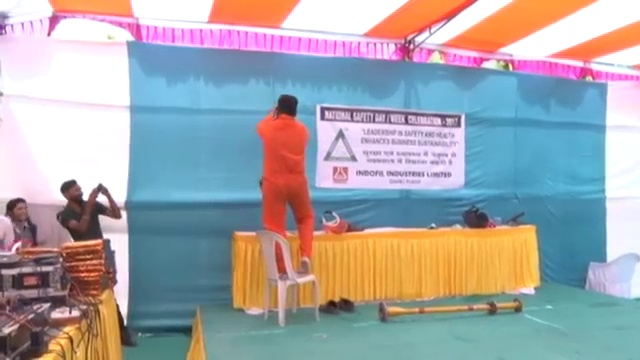helmet_off: (6, 195, 32, 223), (59, 178, 85, 204), (275, 91, 299, 117)
person: (256, 89, 318, 274), (50, 177, 123, 240), (3, 197, 40, 244)
